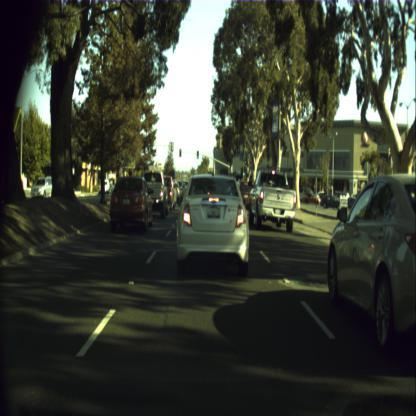Green: (196, 150, 198, 158)
RedLeft: (179, 148, 181, 156)
